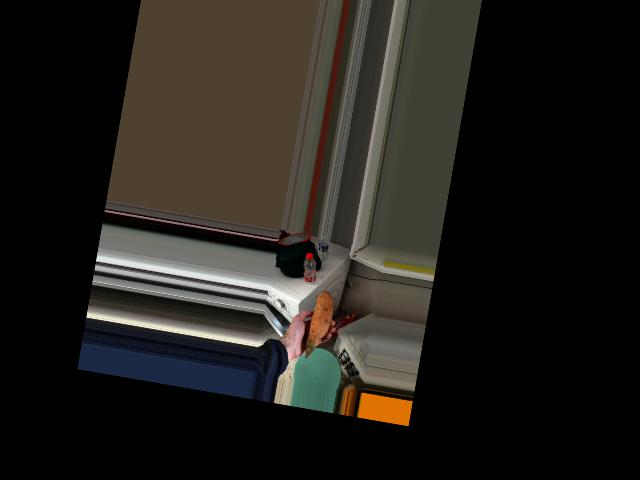sweet_potato: (305, 290, 337, 351)
